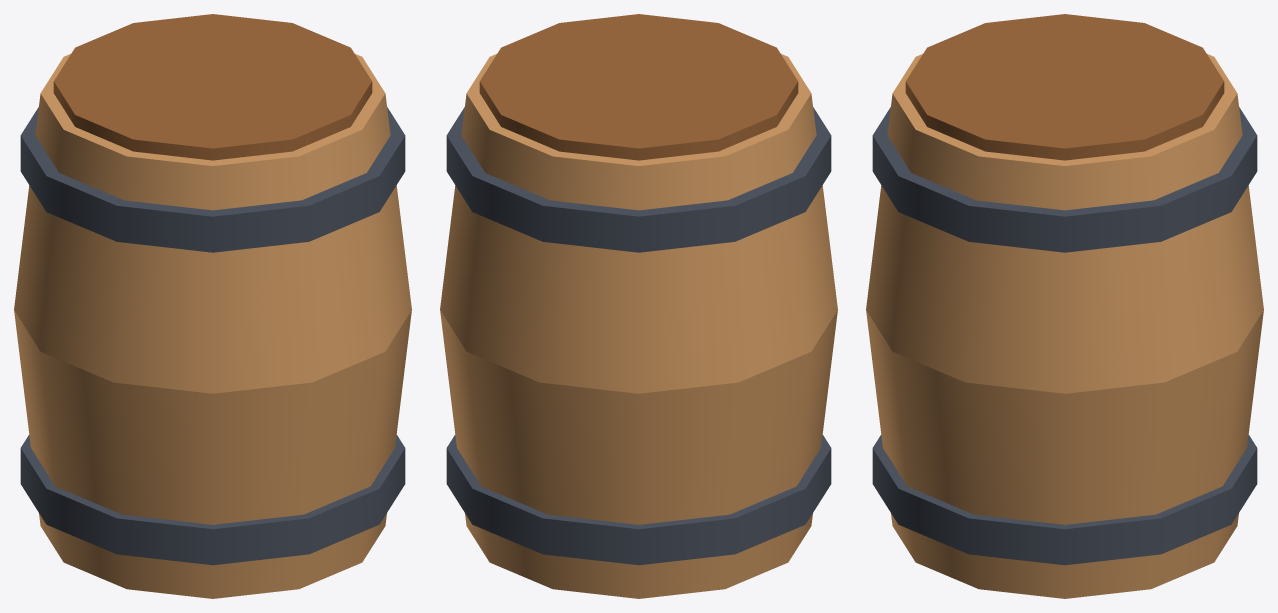
File: barrel.fbx
3 renders of one model, left to right at view 1: azimuth 30°, elevation 25°; view 2: azimuth 150°, elevation 25°; view 3: azimuth 270°, elevation 25°, orthographic.
Parts seen in each view (by area): view 1: barrel; view 2: barrel; view 3: barrel.
Boxes of the visible parts, x1,y1,x2,y2 form: barrel: [14, 14, 411, 598]; barrel: [440, 14, 837, 598]; barrel: [866, 14, 1263, 598].
Size of the model in its own units: 0.3 by 0.37 by 0.3.
